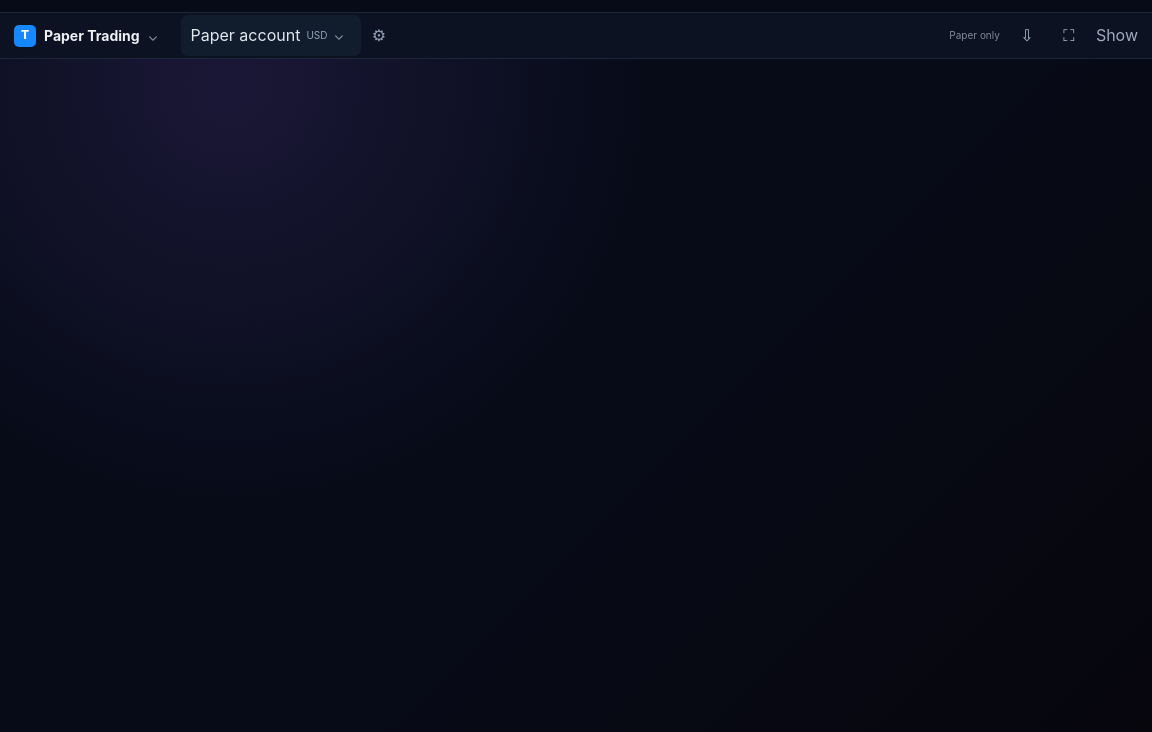
Test: TradingTerminalDock › projects a working order into the open positions view
The width and height of the screenshot is (1152, 732).
Click the button with aria-label "Restore paper trading panel" at (1117, 36), box [1096,23,1138,48]
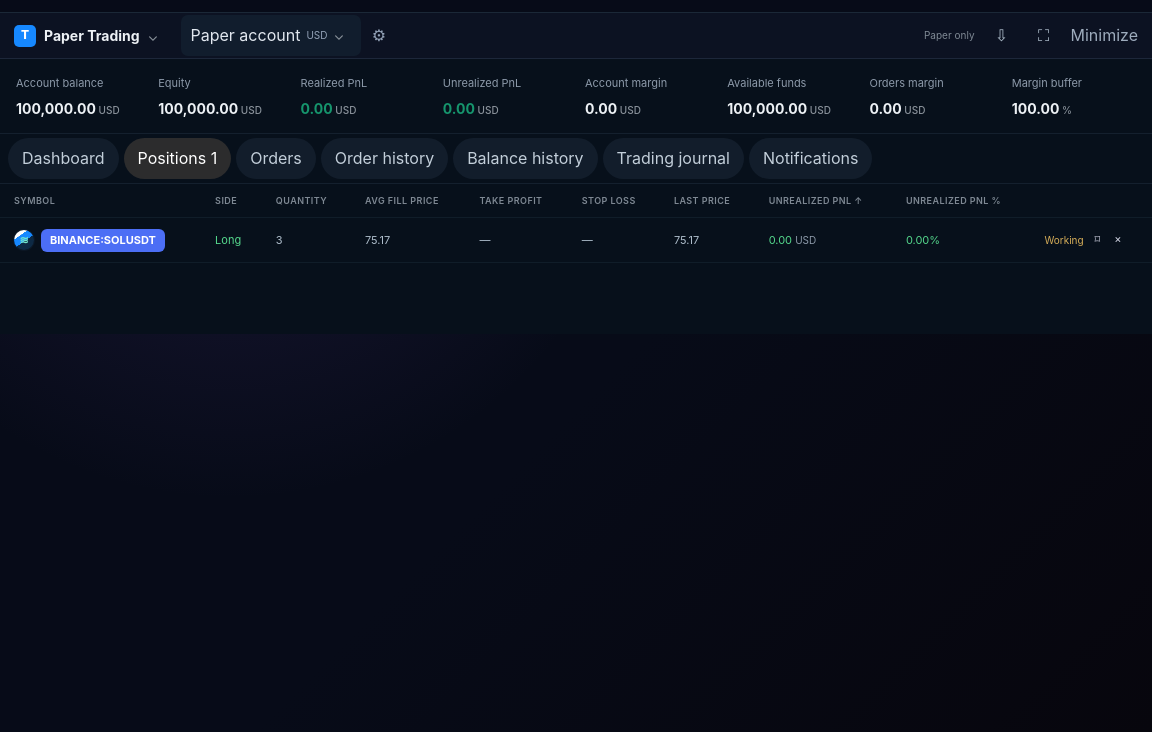
Now the tab "Positions 1" is shown, box [124,138,231,178]
Now the text "BINANCE:SOLUSDT" is shown, box [41,229,165,252]
Now the text "Working" is shown, box [1044,234,1084,246]
